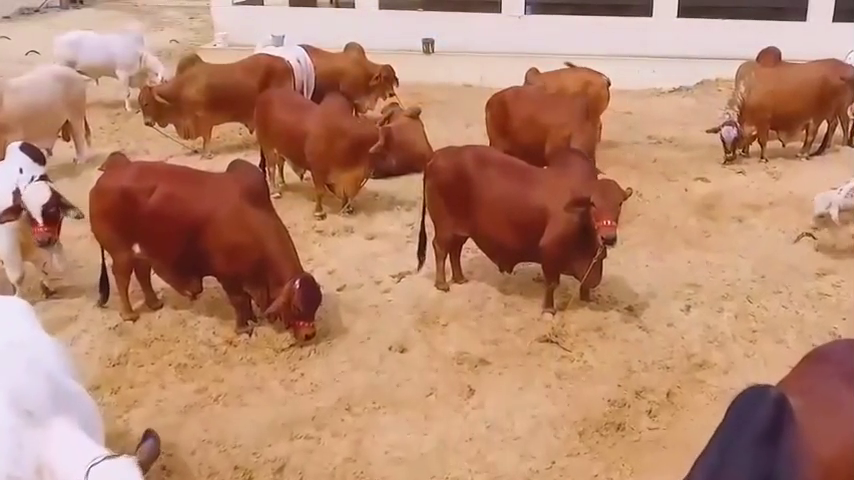bo: (74, 133, 330, 347), (411, 133, 635, 319), (1, 289, 187, 470), (668, 313, 854, 480), (246, 83, 392, 229), (131, 44, 296, 171), (708, 42, 850, 172), (1, 140, 77, 316), (1, 61, 114, 172), (49, 20, 167, 119), (485, 83, 606, 172), (524, 46, 621, 130), (361, 82, 451, 167), (303, 30, 396, 109), (254, 21, 324, 113), (804, 163, 854, 237)
